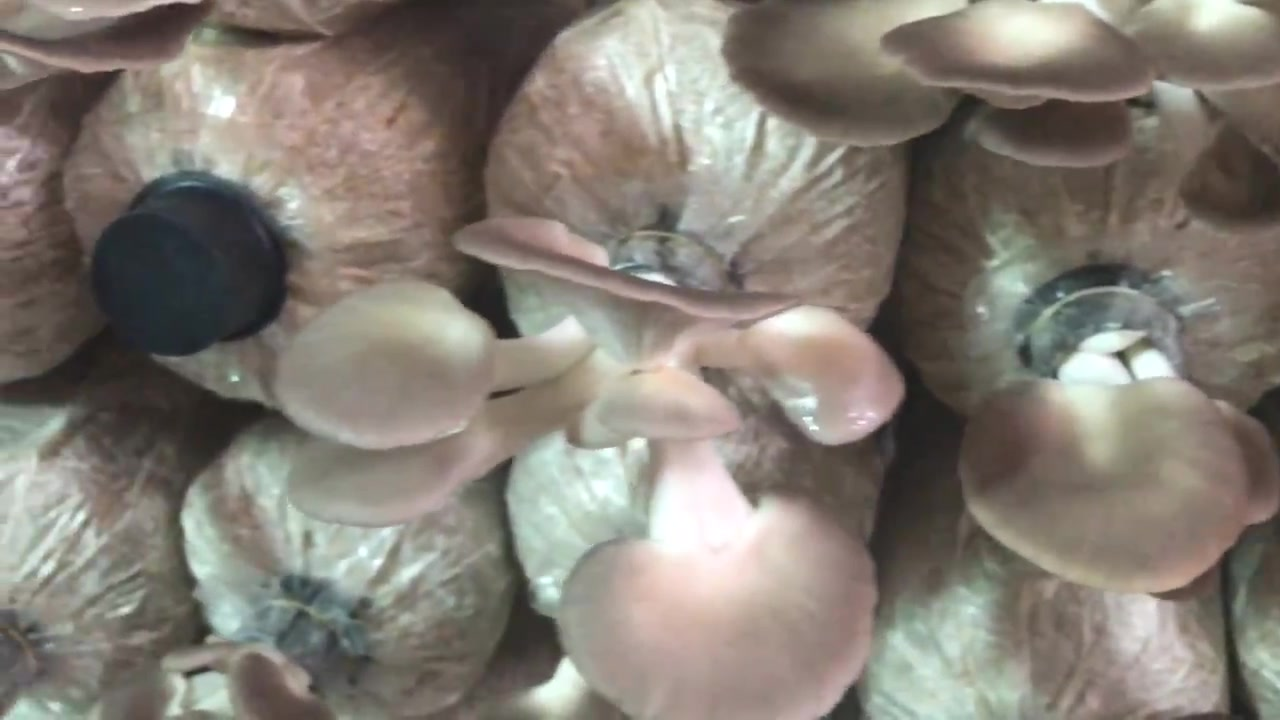nam: (281, 218, 906, 720), (953, 260, 1280, 603), (718, 3, 1280, 174)
